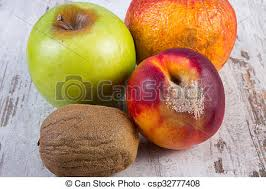damaged_apple: (29, 7, 134, 102), (131, 51, 235, 143), (123, 1, 238, 72), (40, 107, 140, 177)
